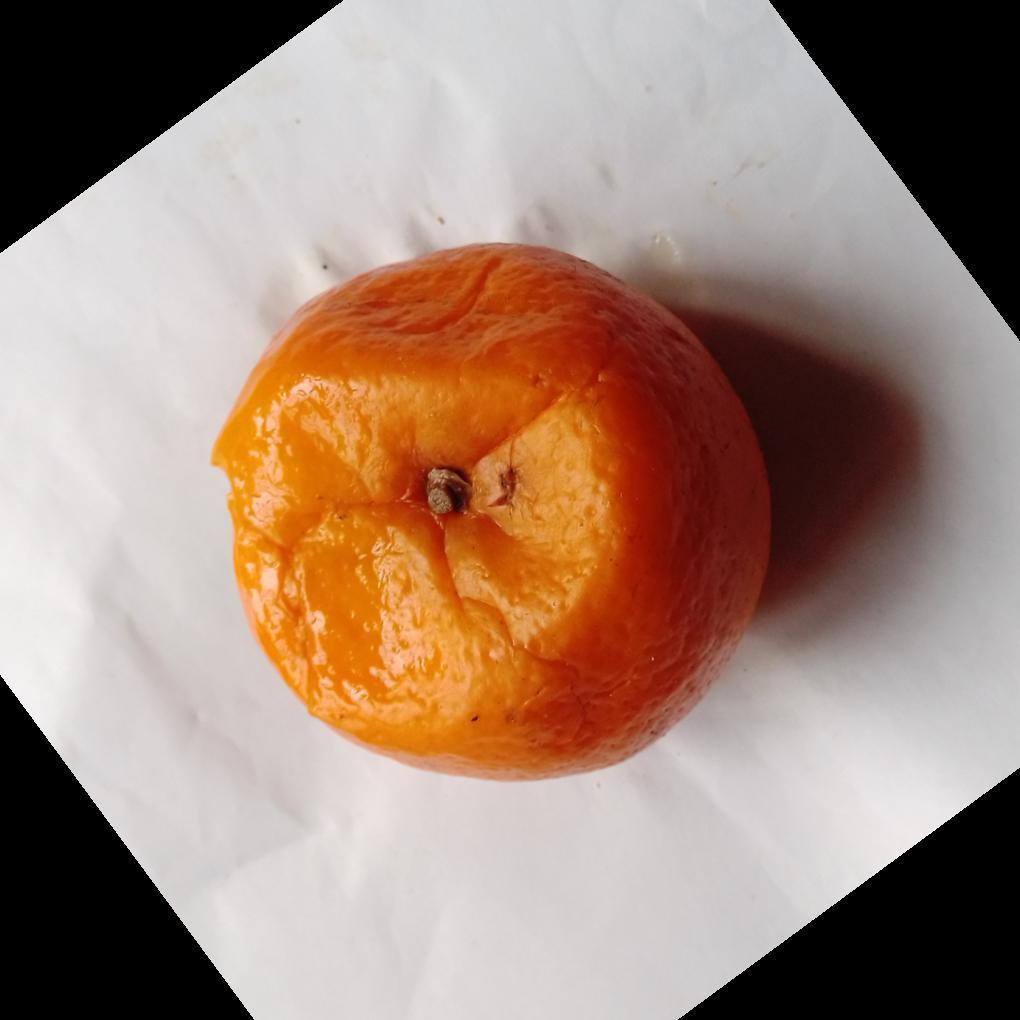FreshOrange: (210, 243, 778, 787)
